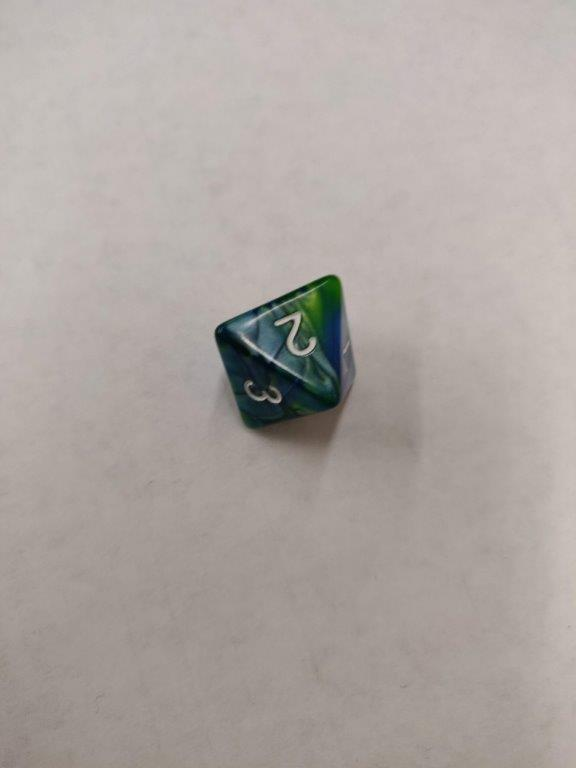d8-2: (214, 273, 356, 434)
